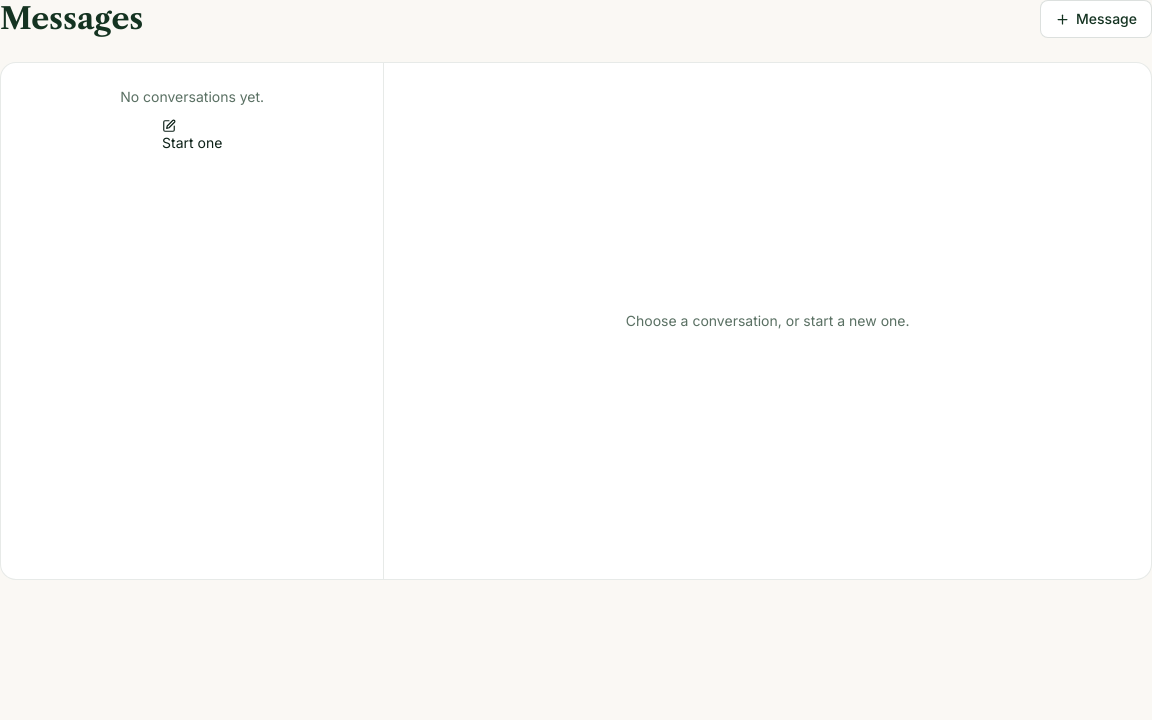
Test case: Messages "+ Message" wiring › shows "+ Message" next to the title and opens the member picker
Step 1. Click the button "Message" → coordinates (1096, 19), box [1040,0,1151,38]
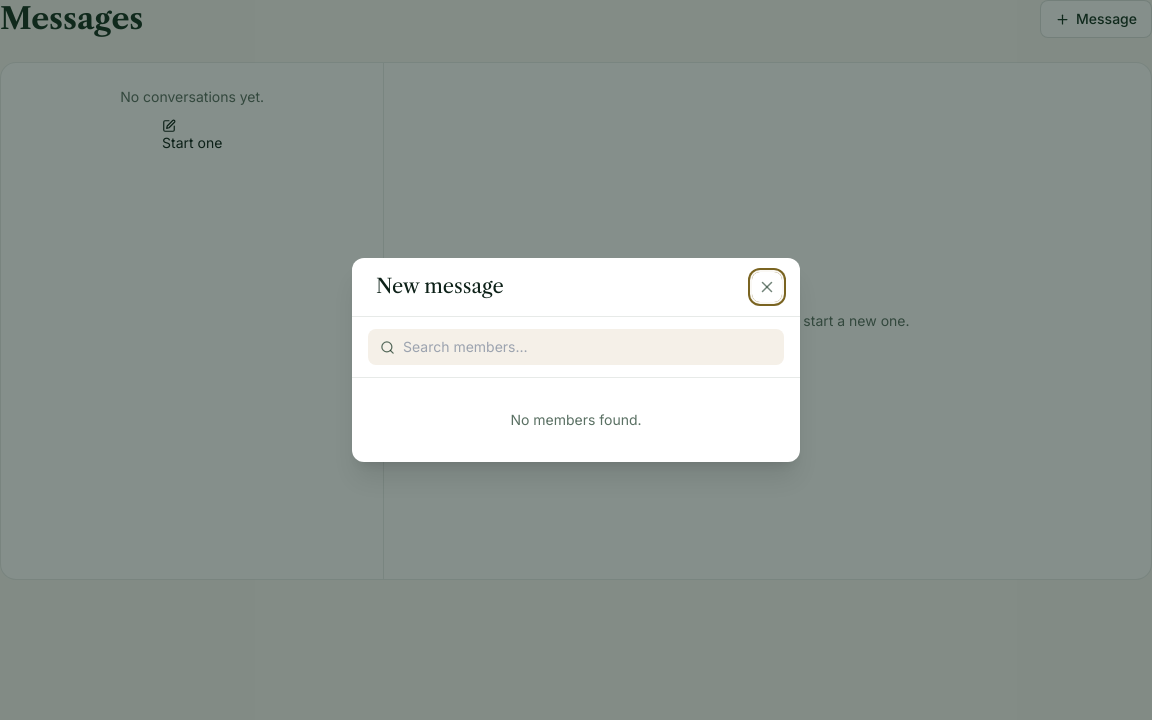
Check: the field with placeholder "Search members…" is shown, box [403,337,772,357]
